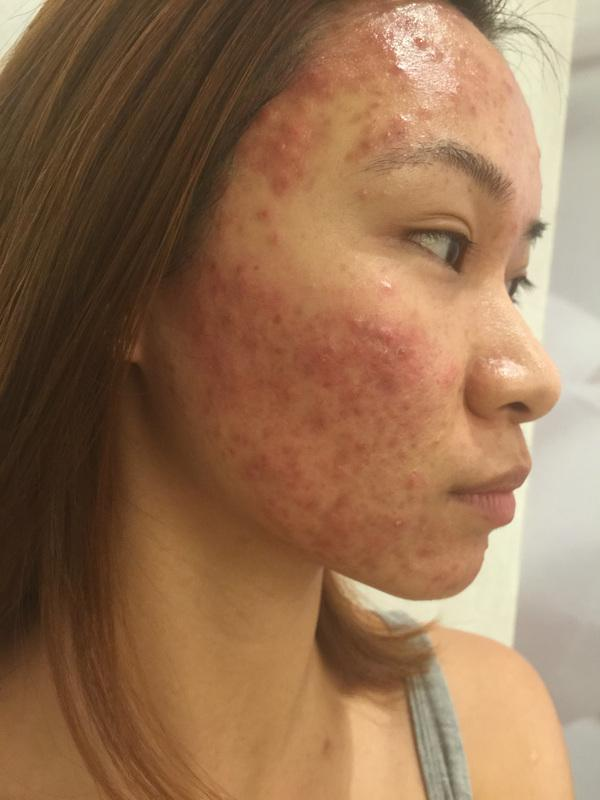fore: (234, 435, 288, 498), (343, 409, 406, 453), (353, 116, 403, 168), (316, 441, 357, 487), (170, 297, 206, 345), (254, 290, 289, 338), (277, 448, 314, 492), (194, 249, 229, 294), (316, 341, 350, 386), (270, 379, 307, 419), (273, 127, 312, 164), (394, 391, 424, 435), (387, 43, 419, 84), (407, 94, 442, 131), (376, 501, 421, 529), (440, 74, 476, 109), (206, 338, 243, 372), (374, 366, 408, 400), (406, 27, 438, 63), (318, 489, 350, 524), (338, 66, 378, 94), (394, 334, 422, 373), (337, 373, 367, 409), (305, 61, 341, 91), (347, 180, 382, 210), (209, 304, 241, 336), (398, 467, 424, 506), (224, 258, 252, 294), (264, 150, 288, 192), (256, 102, 286, 134), (411, 535, 443, 565), (344, 308, 373, 341), (385, 4, 421, 30), (357, 345, 387, 375), (303, 418, 339, 443), (364, 547, 394, 577), (259, 500, 291, 528), (374, 308, 399, 343), (251, 198, 279, 227), (437, 361, 464, 390), (353, 26, 378, 56), (375, 276, 403, 301), (259, 226, 291, 247), (292, 312, 319, 336), (424, 430, 452, 453), (362, 95, 392, 116), (439, 52, 465, 76), (244, 370, 268, 396), (209, 419, 235, 442), (210, 442, 234, 465), (274, 519, 299, 540), (160, 376, 182, 399), (497, 75, 519, 98), (422, 569, 453, 585), (269, 339, 291, 361), (443, 555, 467, 574), (318, 531, 339, 551), (160, 354, 181, 374), (476, 533, 494, 554)
